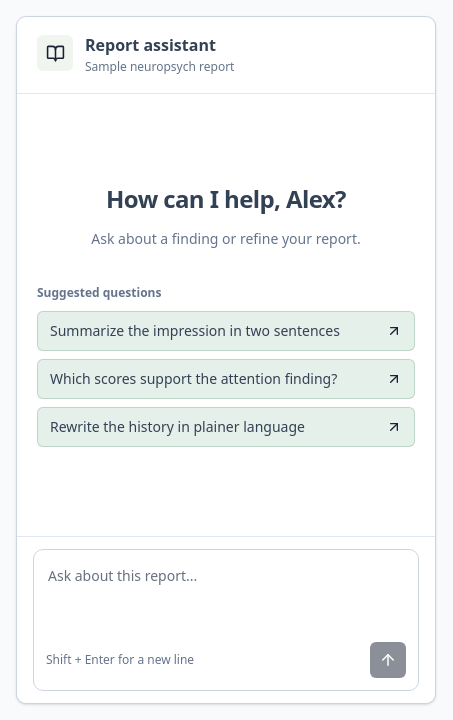
Test: AssistantDemo › immediately submits the exact suggestion, clears an existing draft, and restores composer focus
Type "Rewrite the history in plainer language" into the text box named "Message to assistant" at (226, 590), box [34,550,418,630]
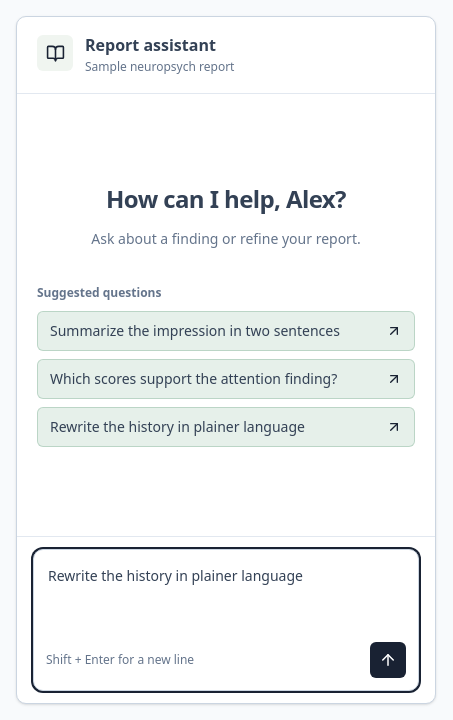
Click the button "Summarize the impression in two sentences" at (226, 331), box [37,311,415,351]
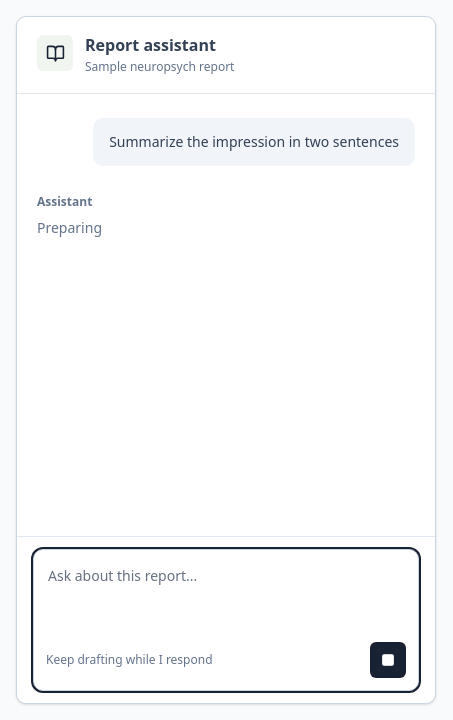
expect the button "Rewrite the history in plainer language" is gone: met
expect the text "Preparing" is shown: met, box [37,218,102,237]
expect the button named "Stop response" is shown: met, box [370,642,406,678]
